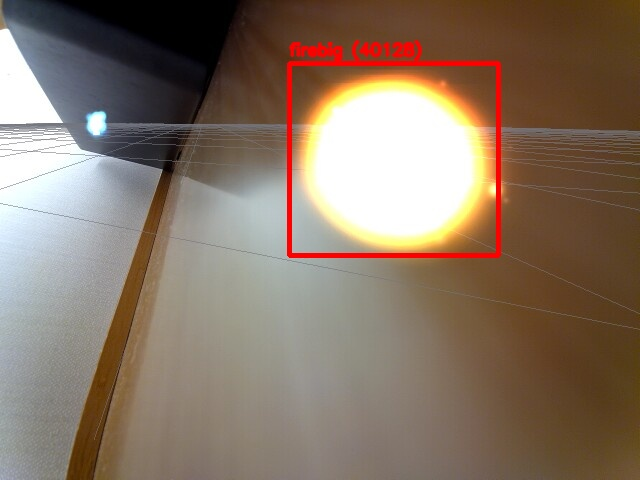firebig: (289, 63, 498, 255)
